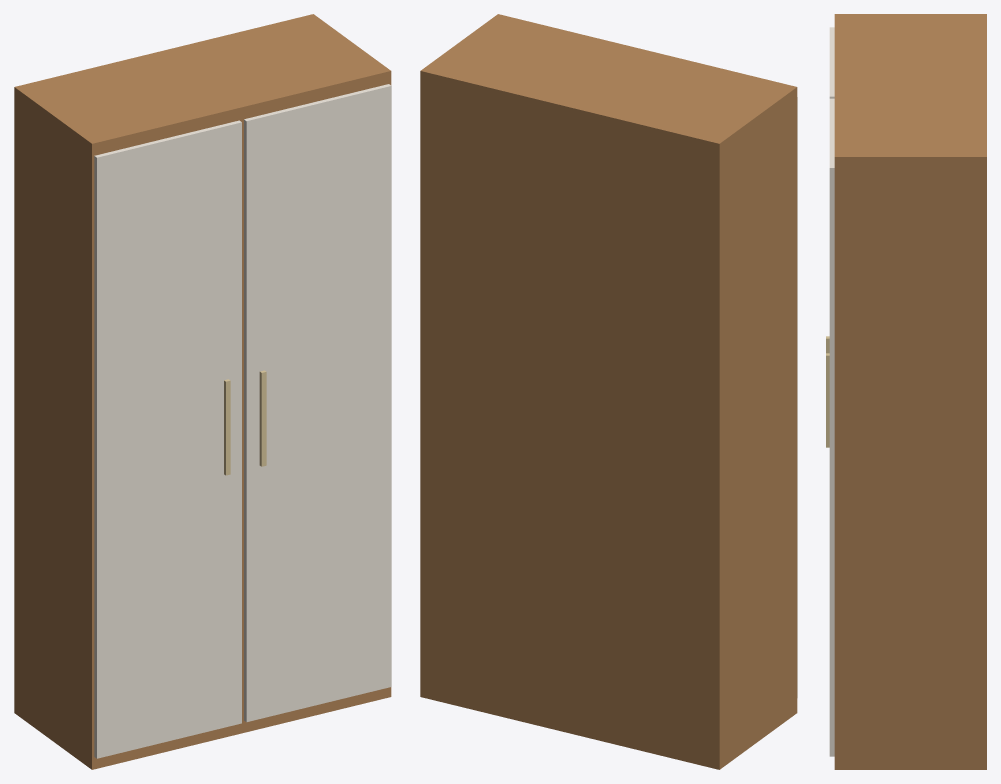
File: armario_alto_100.obj
3 views of the same model, side by side, from view 1: azimuth 30°, elevation 25°; view 2: azimuth 150°, elevation 25°; view 3: azimuth 270°, elevation 25° (orthographic). The views are drawn at different scales.
Parts seen in each view (by area): view 1: armario_alto_100; view 2: armario_alto_100; view 3: armario_alto_100.
Boxes of the visible parts, <box> form: armario_alto_100: <box>14,14,391,769</box>; armario_alto_100: <box>420,14,797,769</box>; armario_alto_100: <box>826,14,986,769</box>.
Bounding box in the file's own units: 1 × 2 × 0.476.
